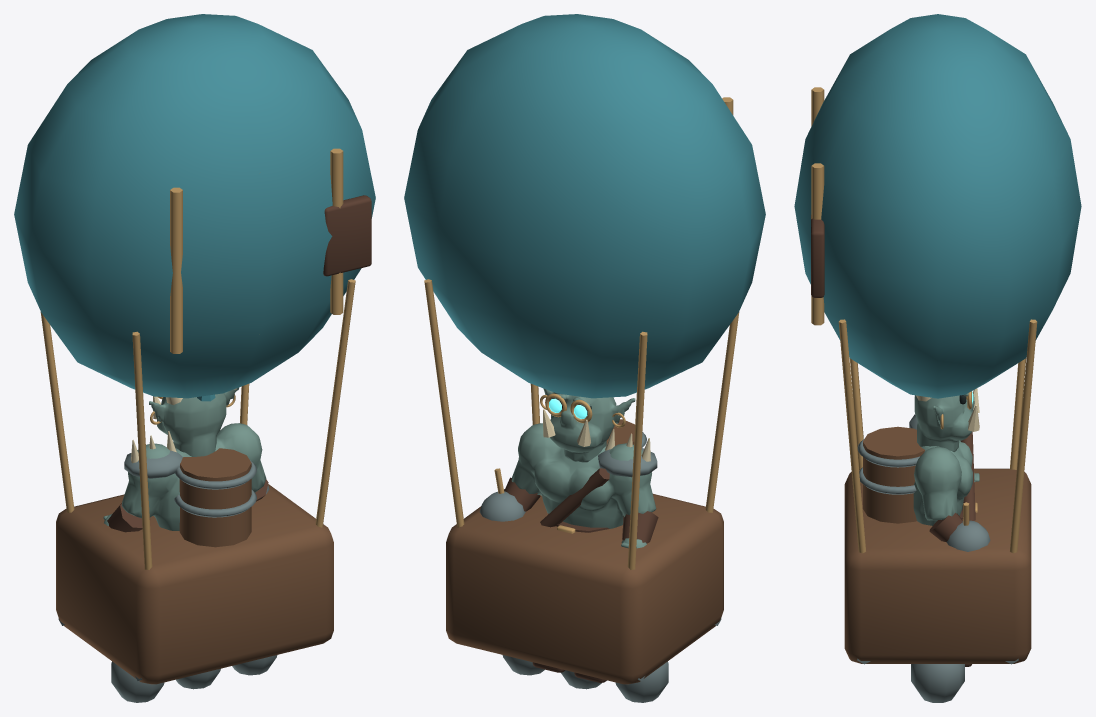
File: host_28.glb
The picture shows the model from 3 angles, left to right: view 1: azimuth 30°, elevation 25°; view 2: azimuth 150°, elevation 25°; view 3: azimuth 270°, elevation 25°; orthographic projection. The views are drawn at different scales.
Visible parts, largest first — view 1: mesh_Cloth.027, mesh_Wood.027, mesh_Copper.027, mesh_Skin.002, mesh_Iron.002, mesh_Leather.002; view 2: mesh_Cloth.027, mesh_Wood.027, mesh_Skin.002, mesh_Copper.027, mesh_Iron.002, mesh_Leather.002, mesh_Bone.027; view 3: mesh_Cloth.027, mesh_Wood.027, mesh_Copper.027, mesh_Skin.002, mesh_Iron.002, mesh_Leather.002.
Part boxes in pixels (<box>): mesh_Cloth.027: <box>14,14,375,401</box>; mesh_Wood.027: <box>56,448,333,684</box>; mesh_Copper.027: <box>40,148,355,569</box>; mesh_Skin.002: <box>103,387,266,530</box>; mesh_Iron.002: <box>58,447,277,702</box>; mesh_Leather.002: <box>107,195,371,532</box>; mesh_Cloth.027: <box>404,14,765,398</box>; mesh_Wood.027: <box>446,419,723,684</box>; mesh_Skin.002: <box>511,388,656,548</box>; mesh_Copper.027: <box>424,97,739,569</box>; mesh_Iron.002: <box>479,432,721,702</box>; mesh_Leather.002: <box>504,468,658,543</box>; mesh_Bone.027: <box>543,409,650,461</box>; mesh_Cloth.027: <box>794,14,1081,398</box>; mesh_Wood.027: <box>844,426,1031,663</box>; mesh_Copper.027: <box>811,87,1037,553</box>; mesh_Skin.002: <box>913,393,979,525</box>; mesh_Iron.002: <box>857,414,1018,702</box>; mesh_Leather.002: <box>811,215,975,542</box>.
Bounding box in the file's own units: 1.04 × 1.98 × 0.7994.
